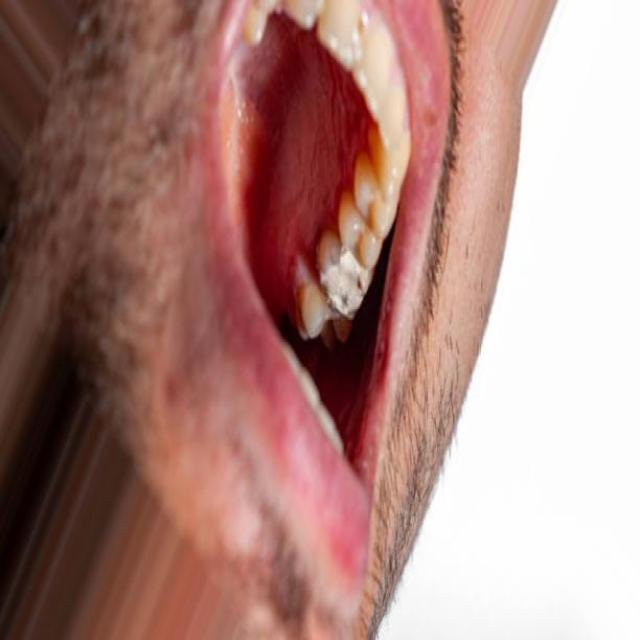caries: (321, 237, 368, 319)
